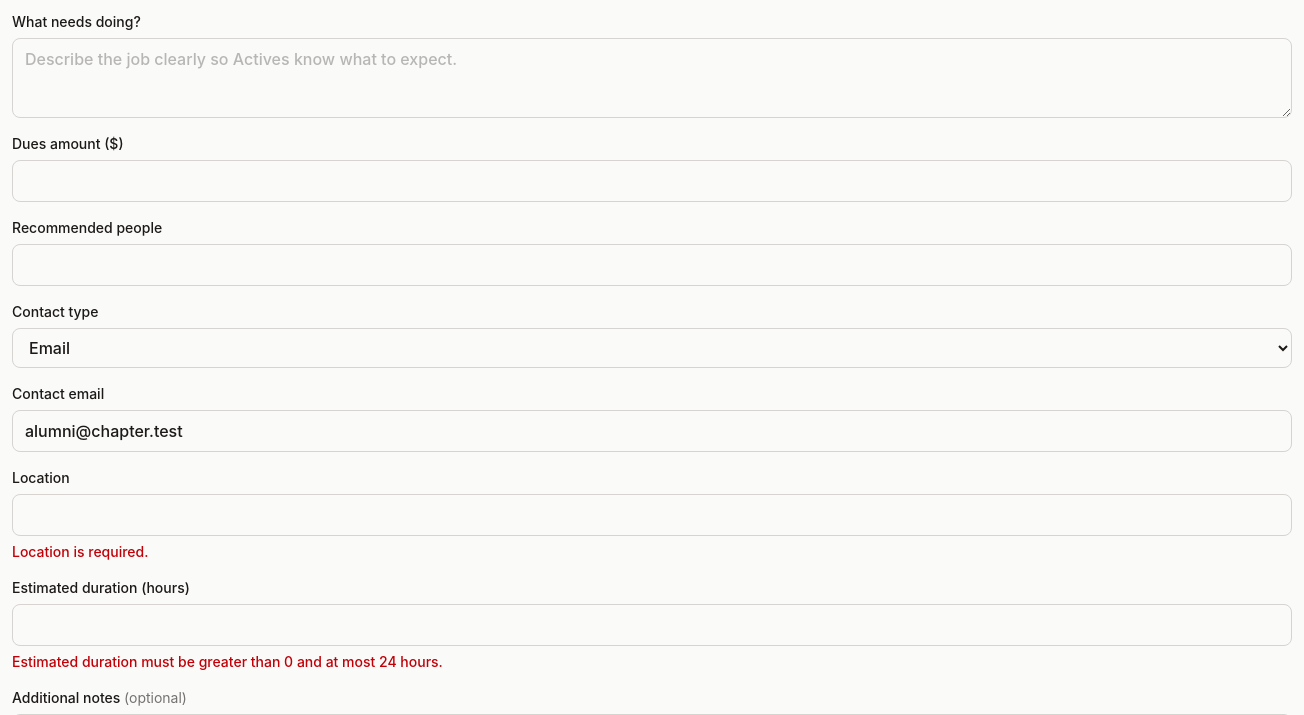
<PostJobForm> › surfaces inline error when contact-value is cleared
Step 1. Clear the field with test id "post-job-contact-value" → [652, 431], box [12, 410, 1292, 452]
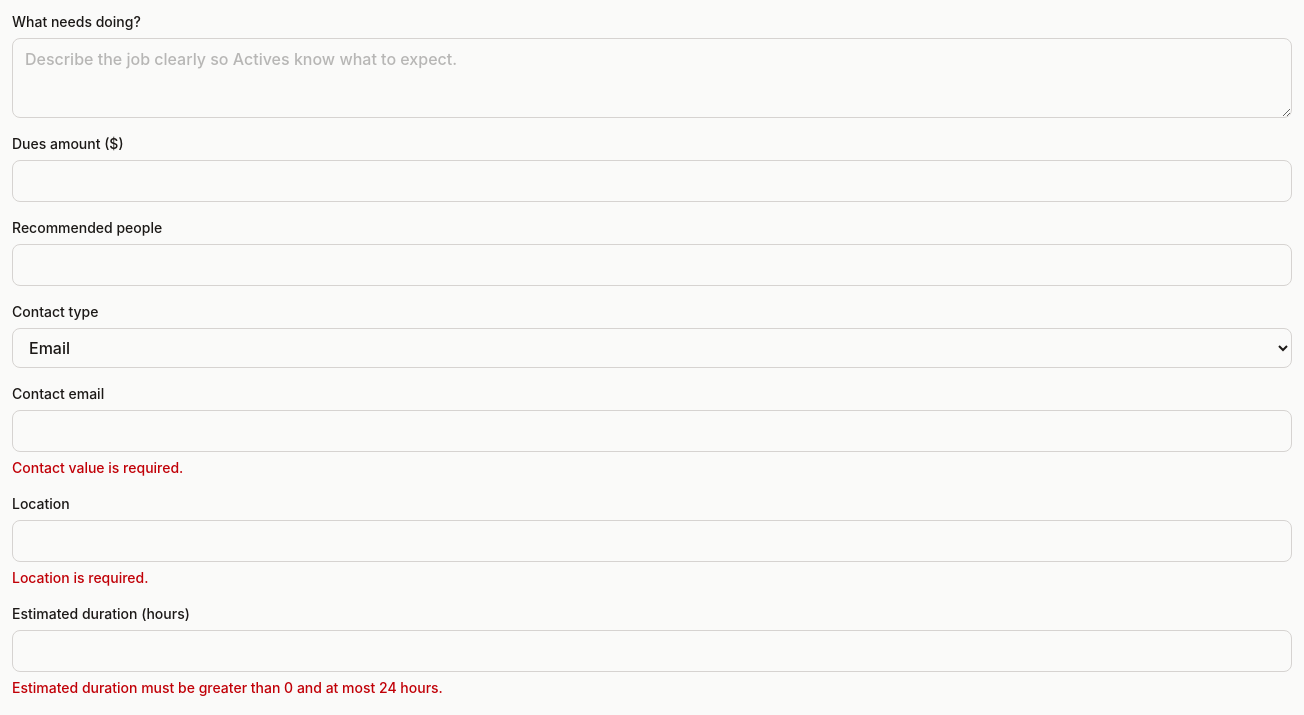
Expected: the message "Contact value is required." is shown, [12, 459, 183, 476]
